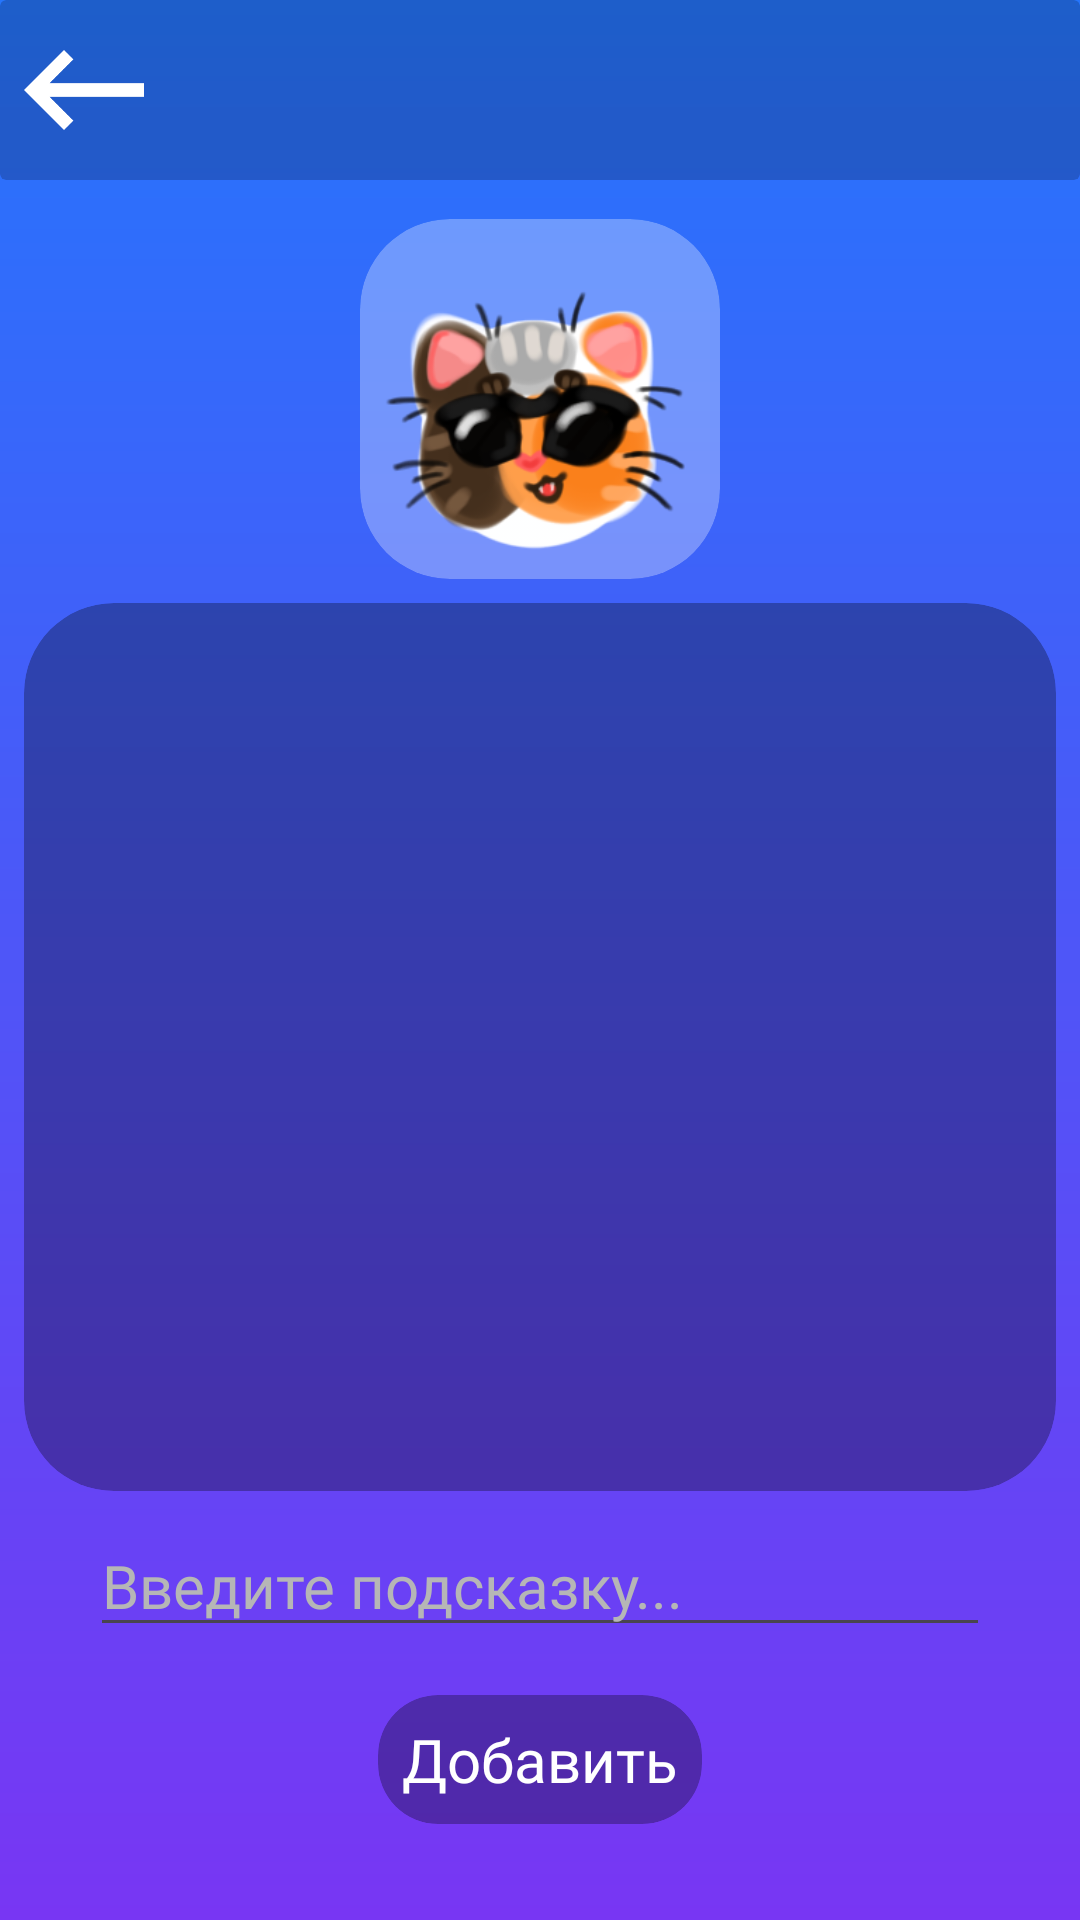

Where icons sit on this 1080×1920 app screen, as box(x1, y1, x2, y2):
back: box(24, 50, 144, 130)
krutoy: box(360, 219, 720, 579)
